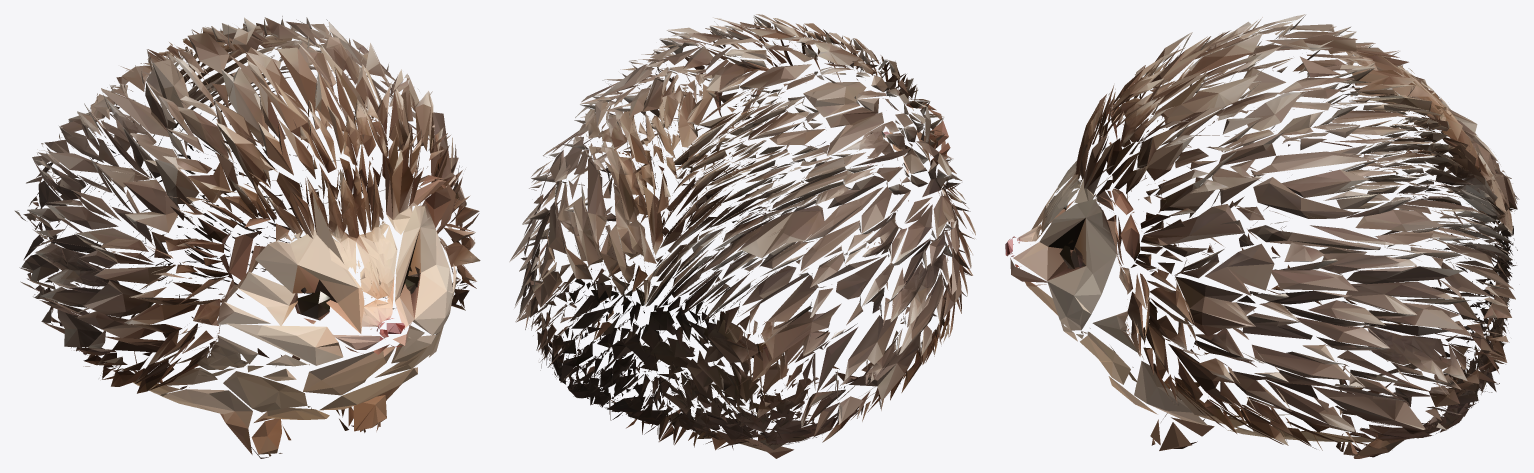
File: pet_hedgehog.glb
The picture shows the model from 3 angles, left to right: view 1: azimuth 30°, elevation 25°; view 2: azimuth 150°, elevation 25°; view 3: azimuth 270°, elevation 25°; orthographic projection. The views are drawn at different scales.
Parts seen in each view (by area): view 1: hedgehog; view 2: hedgehog; view 3: hedgehog.
Boxes of the visible parts, <box> form: hedgehog: <box>14,16,480,458</box>; hedgehog: <box>509,14,975,458</box>; hedgehog: <box>1005,14,1519,458</box>.
Bounding box in the file's own units: 1.06 × 1 × 1.22.
Materials: 1 (1 with a texture image).
